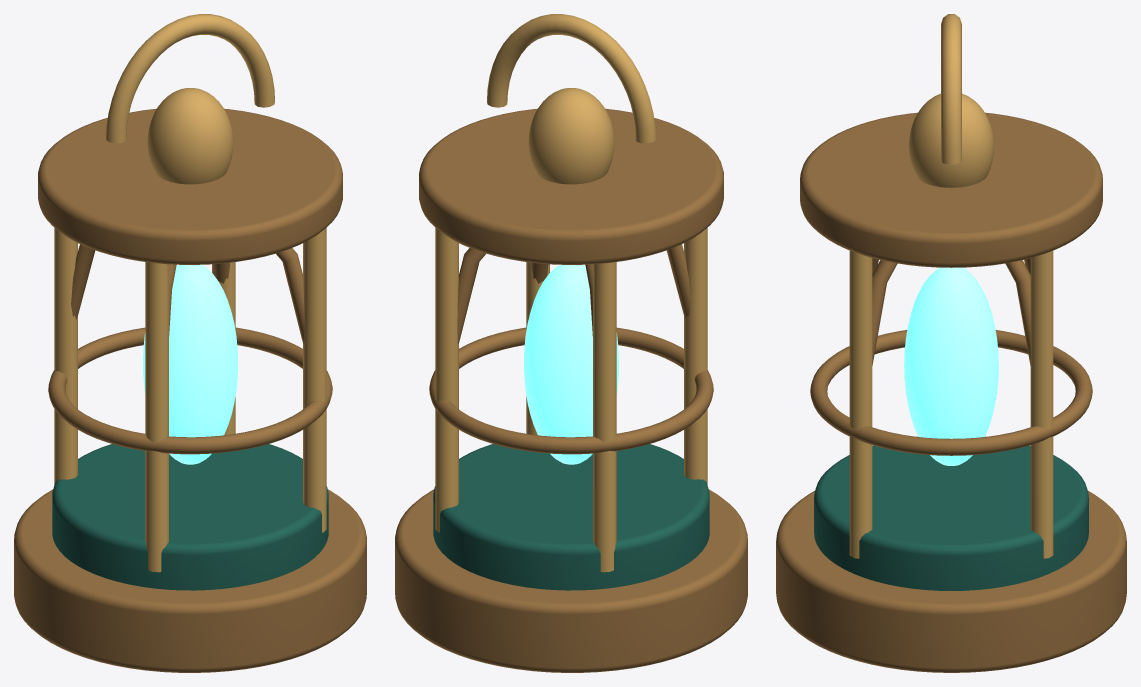
File: watch-lantern-v1.glb
3 renders of one model, left to right at view 1: azimuth 30°, elevation 25°; view 2: azimuth 150°, elevation 25°; view 3: azimuth 270°, elevation 25°, orthographic.
Visible parts, largest first — view 1: LanternFoot, LanternRoof, LanternBase, LanternHeart, LanternWaist, LanternPost.002, LanternFinial, LanternPost.003, LanternHandle, LanternPost.001, LanternGothicArch.003, LanternGothicArch.001 (+1 smaller); view 2: LanternFoot, LanternRoof, LanternBase, LanternHeart, LanternWaist, LanternPost.001, LanternFinial, LanternPost, LanternHandle, LanternPost.002, LanternGothicArch, LanternGothicArch.002 (+1 smaller); view 3: LanternRoof, LanternFoot, LanternBase, LanternHeart, LanternWaist, LanternPost, LanternPost.003, LanternFinial, LanternHandle, LanternGothicArch, LanternGothicArch.003.
Boxes of the visible parts, x1,y1,x2,y2 form: LanternFoot: (14,489,366,672); LanternRoof: (38,108,342,264); LanternBase: (52,444,328,590); LanternHeart: (143,264,237,464); LanternWaist: (48,327,332,454); LanternPost.002: (145,262,168,572); LanternFinial: (147,88,233,184); LanternPost.003: (303,228,326,532); LanternHandle: (106,14,274,143); LanternPost.001: (54,228,77,484); LanternGothicArch.003: (276,248,304,343); LanternGothicArch.001: (71,244,95,319); LanternFoot: (395,489,747,672); LanternRoof: (419,108,723,264); LanternBase: (433,444,709,590); LanternHeart: (524,264,618,464); LanternWaist: (429,327,713,454); LanternPost.001: (593,262,616,572); LanternFinial: (528,88,614,184); LanternPost: (435,228,458,532); LanternHandle: (487,14,655,143); LanternPost.002: (684,228,707,484); LanternGothicArch: (457,248,485,343); LanternGothicArch.002: (666,244,690,319); LanternRoof: (800,112,1102,267); LanternFoot: (776,491,1126,672); LanternBase: (814,436,1088,590); LanternHeart: (904,267,998,465); LanternWaist: (810,330,1092,455); LanternPost: (1030,251,1053,558); LanternPost.003: (849,251,872,558); LanternFinial: (909,93,993,187); LanternHandle: (941,14,961,164); LanternGothicArch: (1005,260,1030,365); LanternGothicArch.003: (872,260,897,365).
Size of the model in its own units: 0.74 by 1.35 by 0.74.
